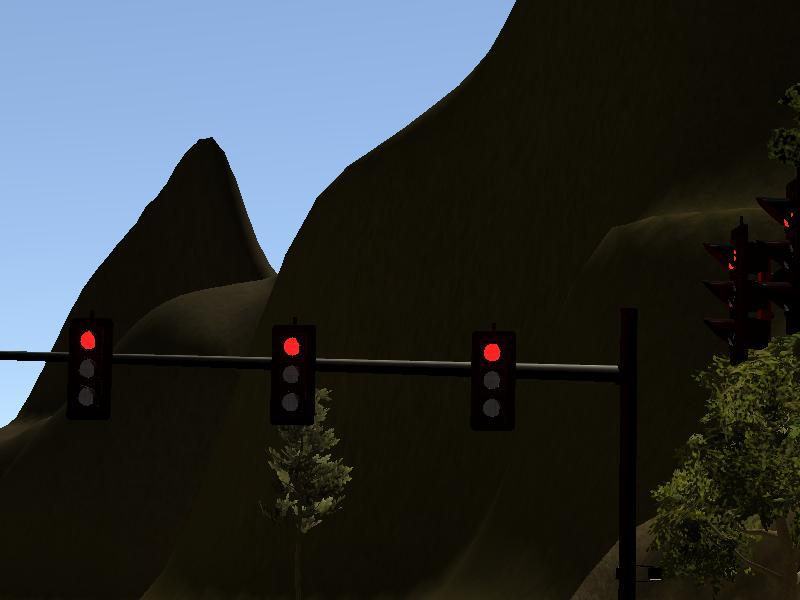Red: (473, 334, 513, 431), (273, 329, 312, 423), (71, 324, 108, 411)
